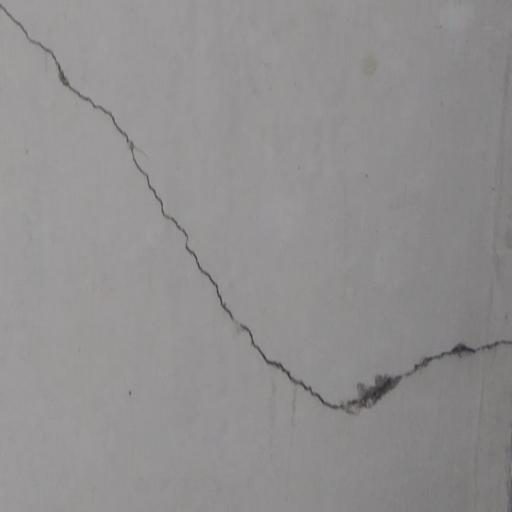major_crack: (0, 0, 512, 418)
